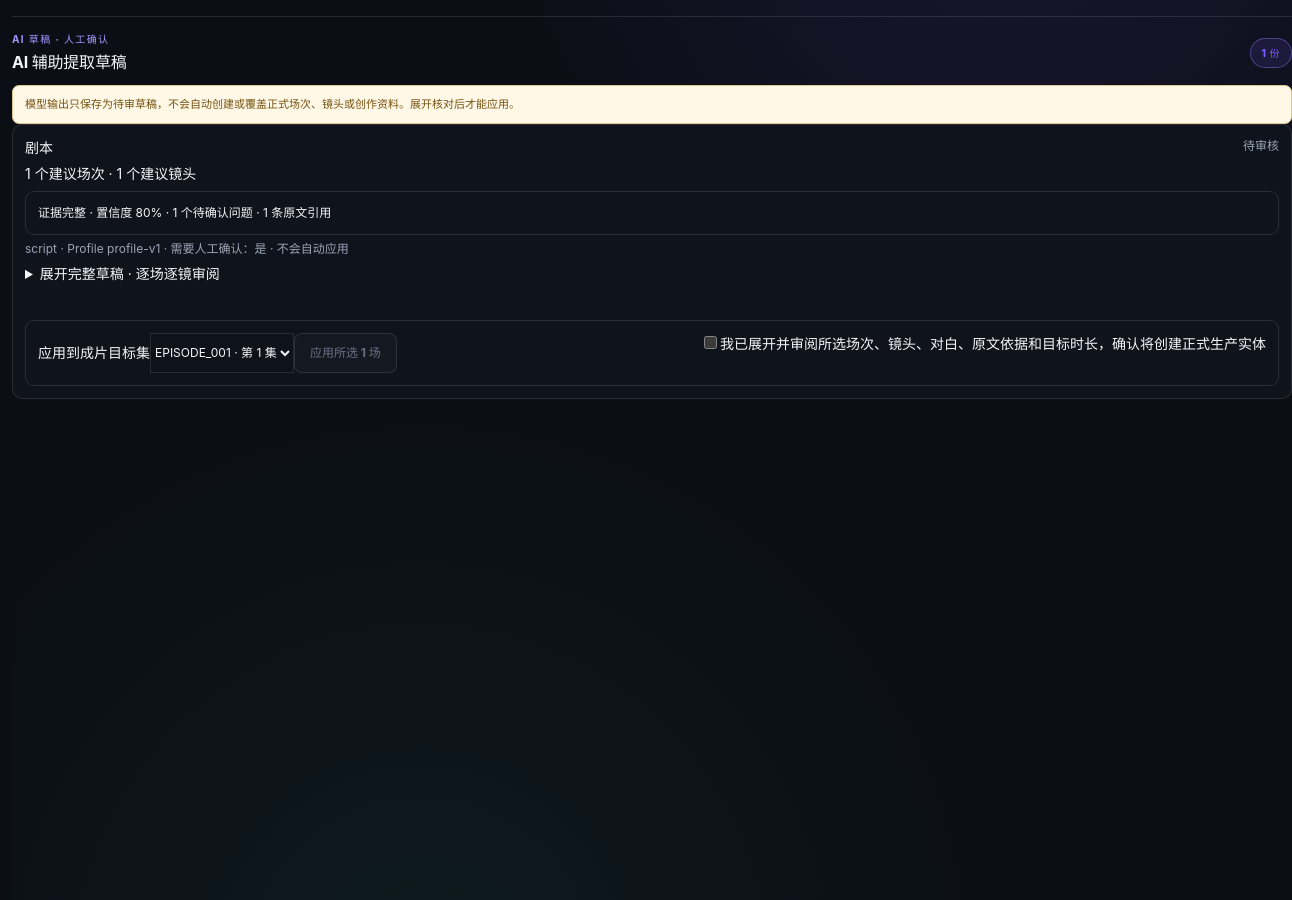
Test case: AIDraftReviewPanel › renders structured model dialogue as readable speaker text
Click the heading "展开完整草稿 · 逐场逐镜审阅". click: (130, 273)
box: x1=40 y1=265 x2=220 y2=282
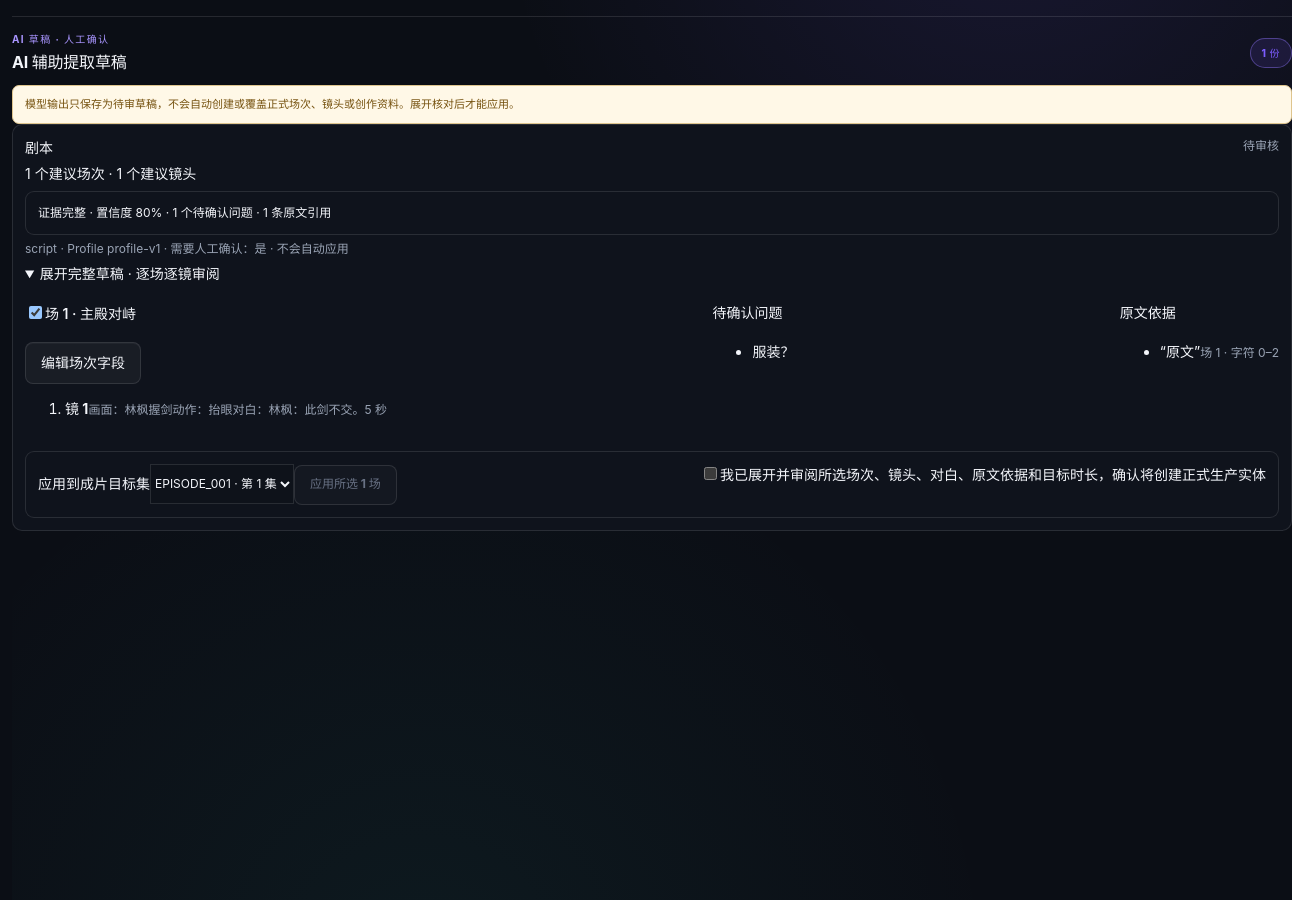
expect the text "对白：林枫：此剑不交。" is shown: met, box x1=232 y1=402 x2=364 y2=417
